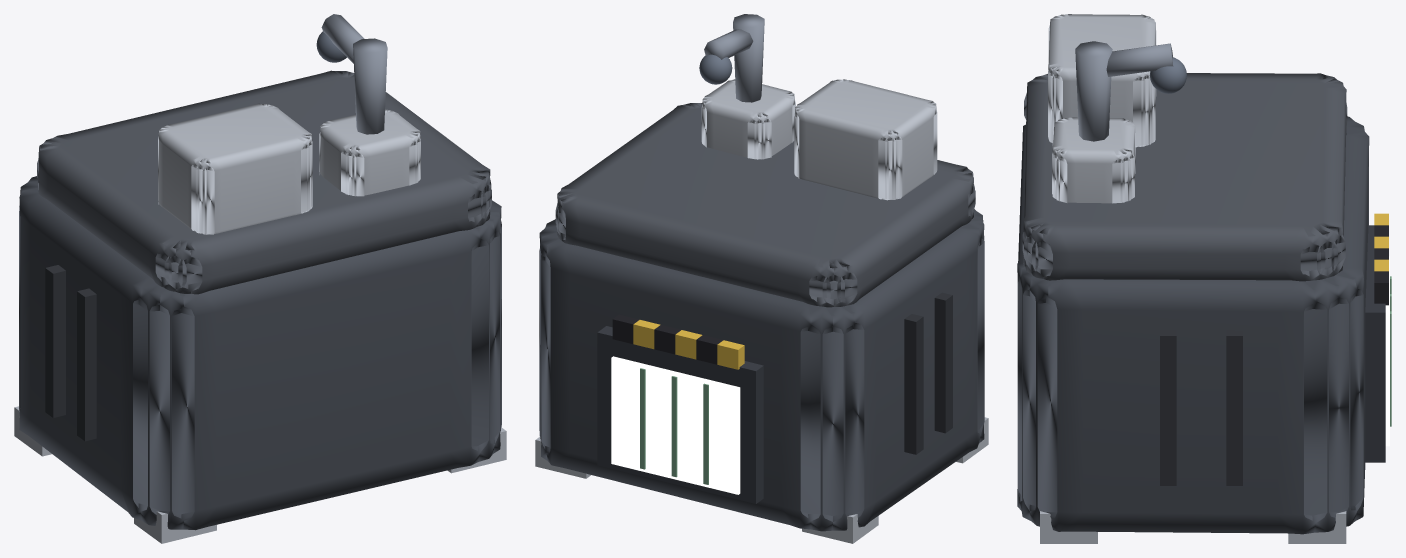
Rendered from b_factory.glb.
3 renders of one model, left to right at view 1: azimuth 30°, elevation 25°; view 2: azimuth 150°, elevation 25°; view 3: azimuth 270°, elevation 25°, orthographic. The views are drawn at different scales.
Visible parts, largest first — view 1: fa_hull.001, fa_top.001, fa_vent1.001, fa_vent2.001, fa_slit-11.001, fa_slit-10.001, fa_hookpost.001, fa_hookarm.001, fa_foot-1-1.001; view 2: fa_hull.001, fa_top.001, fa_vent1.001, fa_door.001, fa_doorf.001, fa_vent2.001, fa_slit-11.001, fa_slit-10.001, fa_hookpost.001, fa_hookarm.001, fa_foot-11.001, fa_hooktip.001 (+9 smaller); view 3: fa_hull.001, fa_top.001, fa_vent1.001, fa_vent2.001, fa_doorf.001, fa_hookpost.001, fa_slit10.001, fa_slit11.001, fa_hookarm.001, fa_foot1-1.001, fa_hooktip.001, fa_foot11.001 (+2 smaller).
Boxes of the visible parts, <box> form: fa_hull.001: <box>19,176,501,530</box>; fa_top.001: <box>37,70,491,294</box>; fa_vent1.001: <box>158,103,312,234</box>; fa_vent2.001: <box>319,109,420,196</box>; fa_slit-11.001: <box>45,265,65,417</box>; fa_slit-10.001: <box>77,288,96,441</box>; fa_hookpost.001: <box>353,38,387,134</box>; fa_hookarm.001: <box>321,14,364,63</box>; fa_foot-1-1.001: <box>134,511,216,543</box>; fa_hull.001: <box>539,209,984,531</box>; fa_top.001: <box>555,102,975,307</box>; fa_vent1.001: <box>794,79,937,200</box>; fa_door.001: <box>611,356,740,494</box>; fa_doorf.001: <box>597,326,763,503</box>; fa_vent2.001: <box>701,79,795,159</box>; fa_slit-11.001: <box>904,314,923,454</box>; fa_slit-10.001: <box>934,292,952,433</box>; fa_hookpost.001: <box>733,14,764,102</box>; fa_hookarm.001: <box>704,29,753,59</box>; fa_foot-11.001: <box>802,514,878,543</box>; fa_hooktip.001: <box>699,54,732,84</box>; fa_hull.001: <box>1017,116,1369,534</box>; fa_top.001: <box>1022,73,1347,281</box>; fa_vent1.001: <box>1048,14,1156,147</box>; fa_vent2.001: <box>1052,117,1135,203</box>; fa_doorf.001: <box>1365,225,1385,462</box>; fa_hookpost.001: <box>1075,41,1112,141</box>; fa_slit10.001: <box>1160,329,1176,485</box>; fa_slit11.001: <box>1226,330,1242,485</box>; fa_hookarm.001: <box>1106,43,1173,76</box>; fa_foot1-1.001: <box>1040,511,1097,543</box>; fa_hooktip.001: <box>1149,57,1186,93</box>; fa_foot11.001: <box>1288,511,1346,543</box>.
Bounding box in the file's own units: 1.11 × 1.18 × 0.9047.
